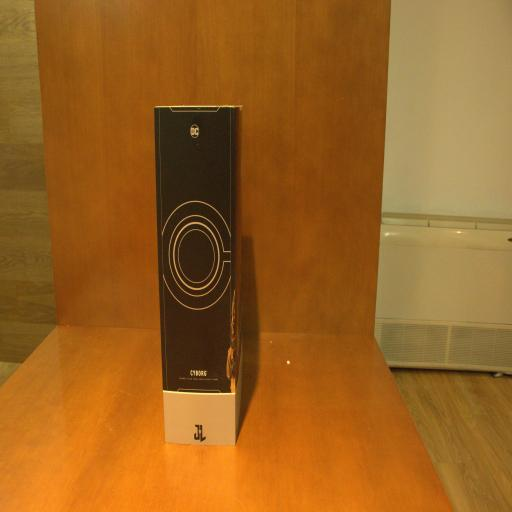Cyborg: (154, 106, 244, 447)
